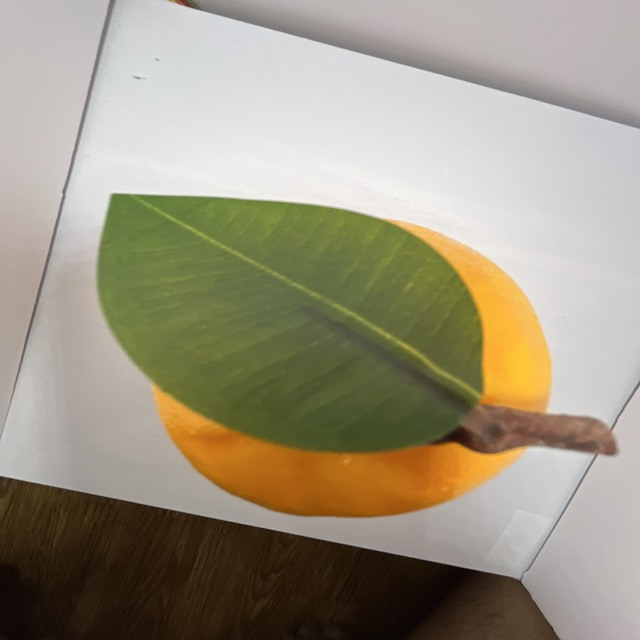Cam vang: (146, 213, 560, 521)
